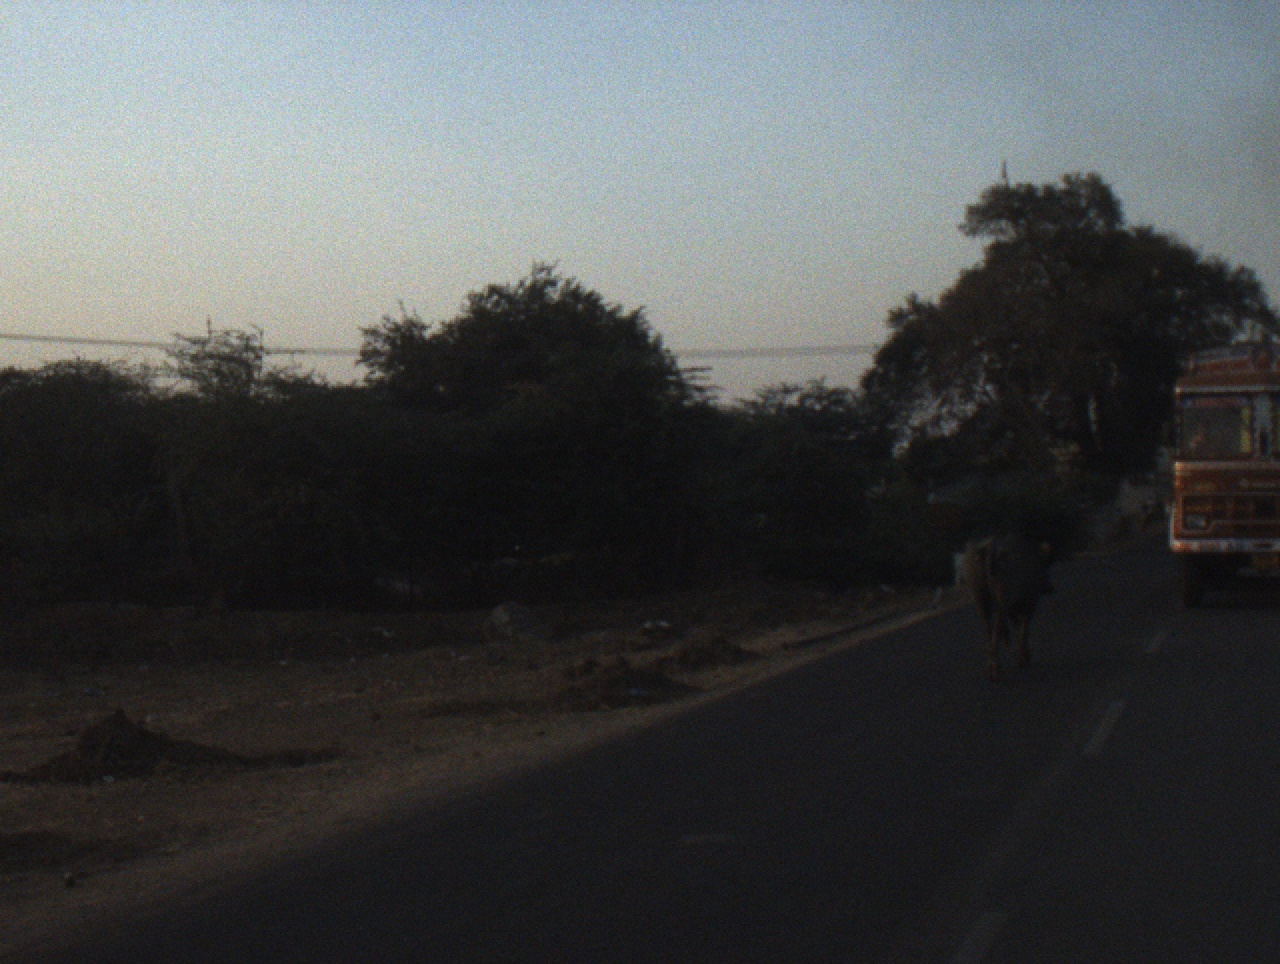animal: (946, 526, 1063, 686)
truck: (1156, 342, 1278, 604)
